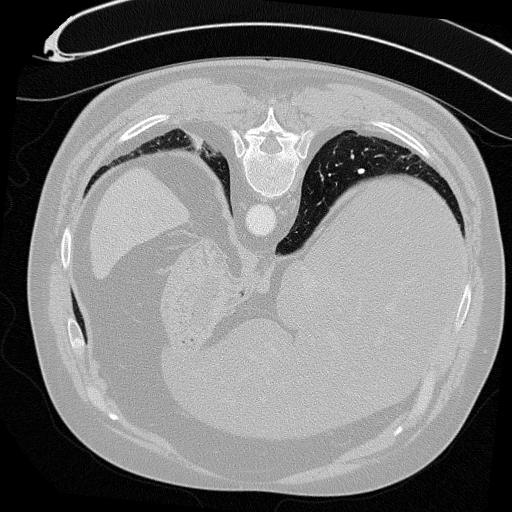nodule: (356, 166, 369, 179)
